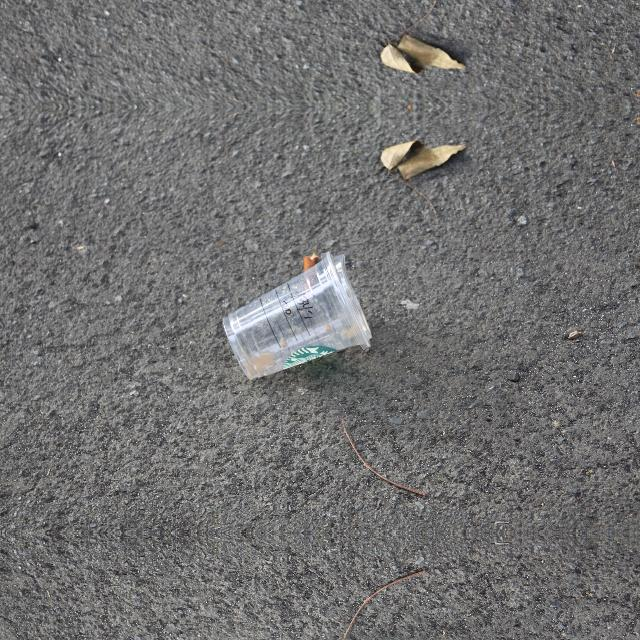Plastic: (220, 249, 374, 381)
